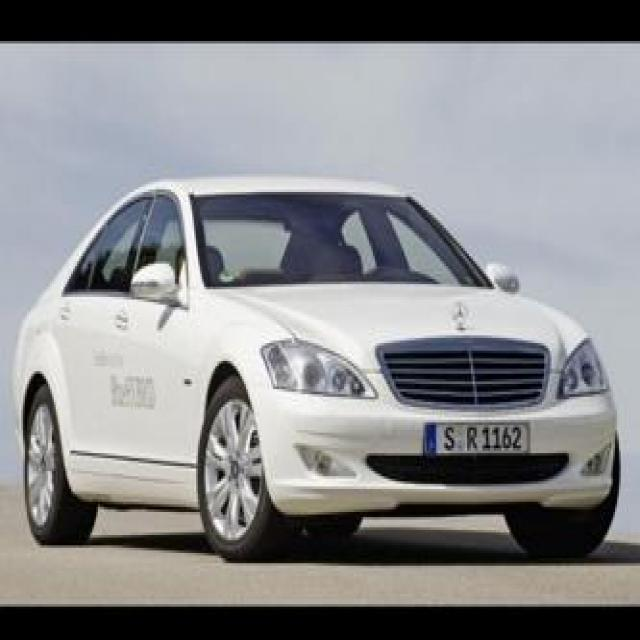Car: (34, 135, 640, 558)
